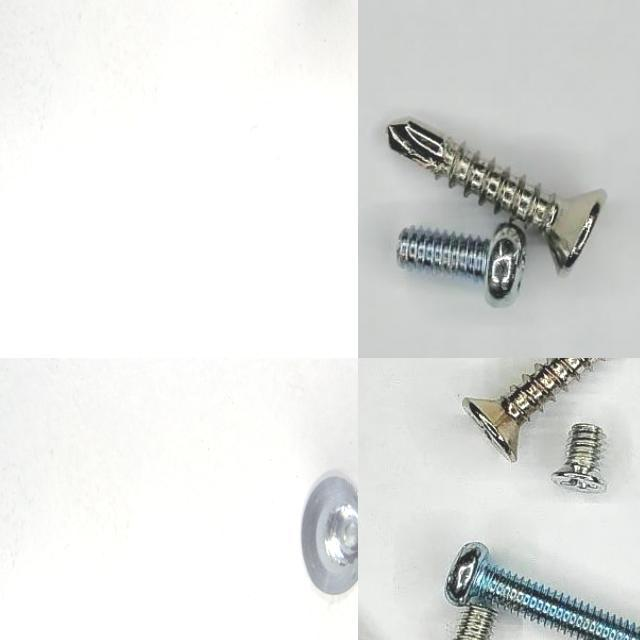Screw: (387, 119, 606, 271), (444, 543, 640, 640), (462, 358, 599, 461), (396, 225, 525, 308), (302, 475, 358, 594), (550, 423, 605, 491), (453, 605, 496, 640)
